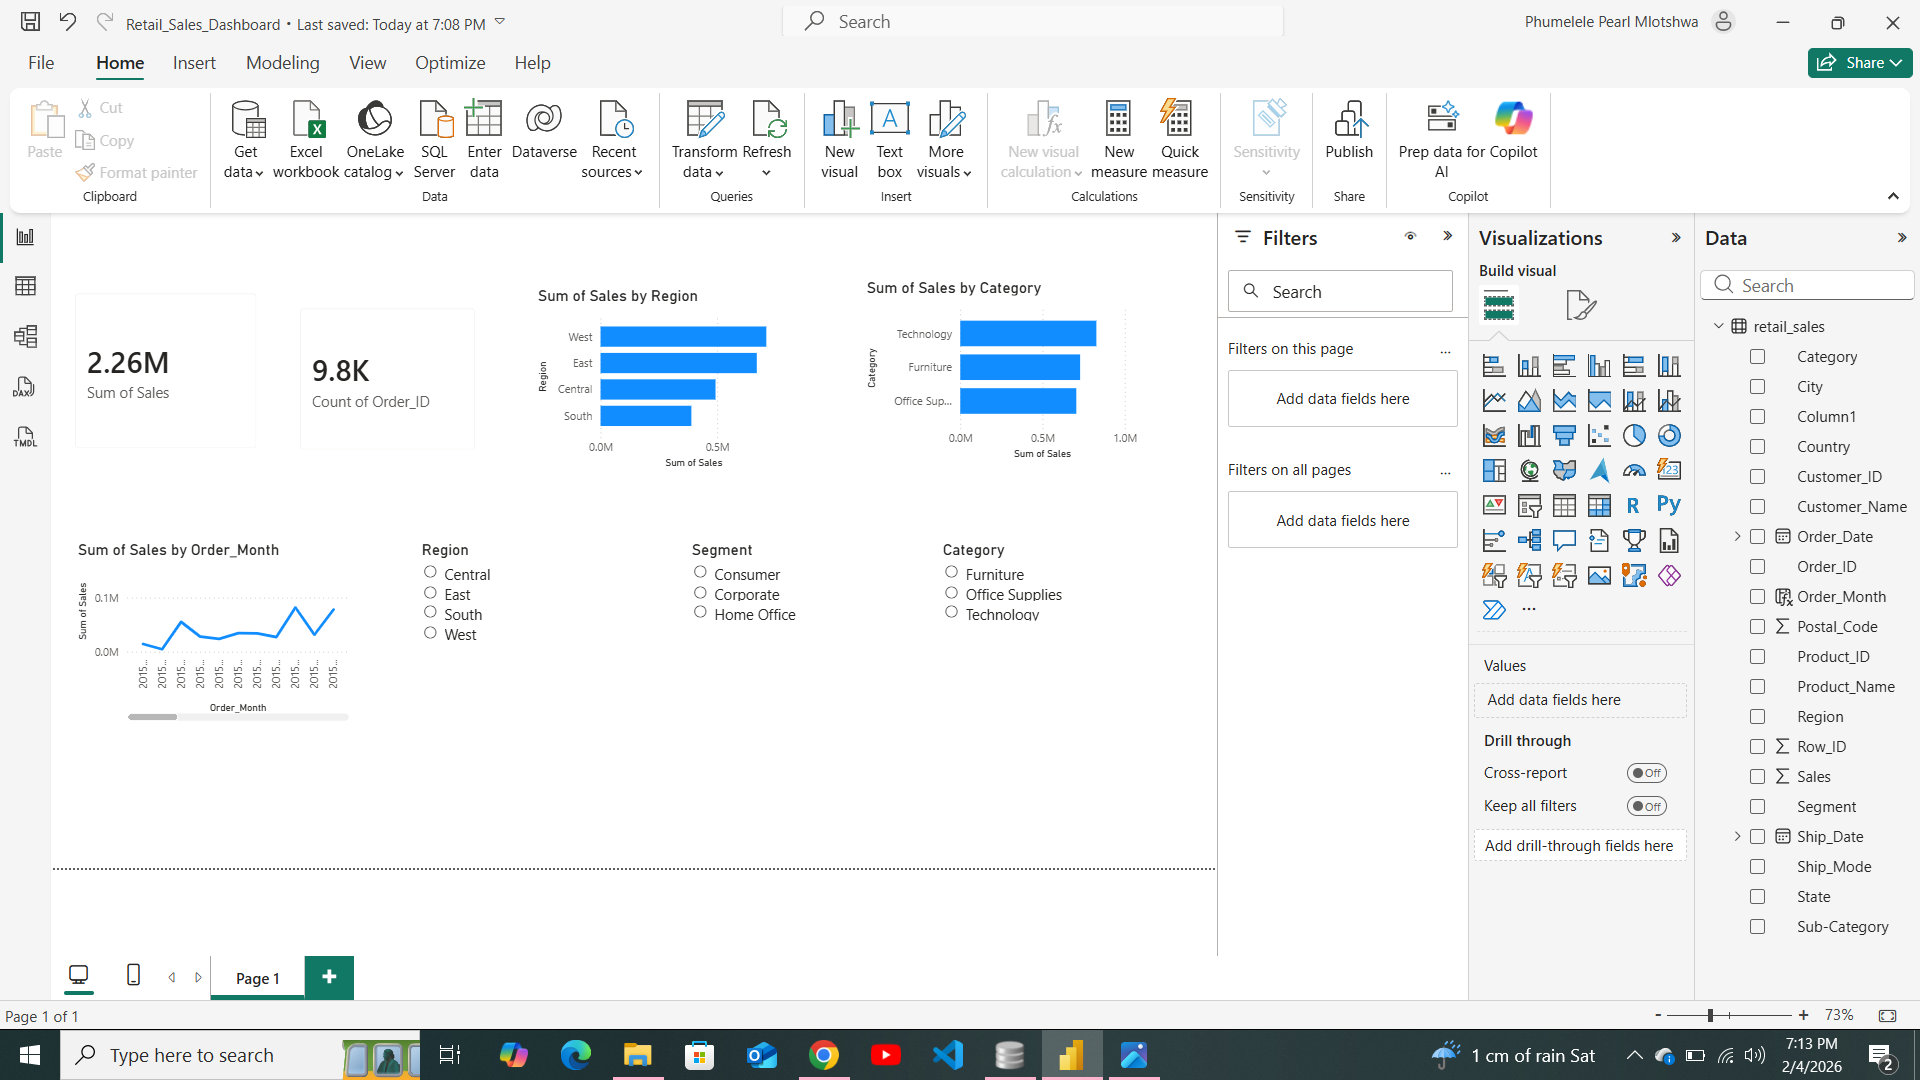

Layout of this report page (visuals, bound fields, positions):
{"tool":"powerbi","page":{"name":"Page 1","canvas":[1280,720],"ordinal":0},"visuals":[{"type":"cardVisual","fields":{"Data":["Sum(retail_sales.Sales)"]},"box":[9.6,71.4,233.3,204.5],"z":0},{"type":"cardVisual","fields":{"Data":["CountNonNull(retail_sales.Order_ID)"]},"box":[256.6,87.8,226.4,189.4],"z":1},{"type":"clusteredBarChart","fields":{"Y":["Sum(retail_sales.Sales)"],"Category":["retail_sales.Category"]},"box":[890.6,71.4,307.4,204.5],"z":3},{"type":"lineChart","fields":{"Category":["retail_sales.Order_Month"],"Y":["Sum(retail_sales.Sales)"]},"box":[24.7,359.5,307.4,203.1],"z":4},{"type":"clusteredBarChart","fields":{"Category":["retail_sales.Region"],"Y":["Sum(retail_sales.Sales)"]},"box":[529.7,81,297.8,204.5],"z":6},{"type":"listSlicer","fields":{"Values":["retail_sales.Region"]},"box":[402.1,359.5,255.2,204.5],"z":7},{"type":"listSlicer","fields":{"Values":["retail_sales.Category"]},"box":[974.3,359.5,223.7,204.5],"z":8},{"type":"listSlicer","fields":{"Values":["retail_sales.Segment"]},"box":[698.5,359.5,208.6,204.5],"z":9}]}

Visuals, with their boxes on the page's 1280x720 design canvas (x1, y1, x2, y2). These are canvas units, not pixel positions in the 1920x1080 screenshot, which may show the page scaled, cropped or inside an application window:
cardVisual - Sum(retail_sales.Sales): <box>10,71,243,276</box>
cardVisual - CountNonNull(retail_sales.Order_ID): <box>257,88,483,277</box>
clusteredBarChart - Sum(retail_sales.Sales) x retail_sales.Category: <box>891,71,1198,276</box>
lineChart - retail_sales.Order_Month x Sum(retail_sales.Sales): <box>25,360,332,563</box>
clusteredBarChart - retail_sales.Region x Sum(retail_sales.Sales): <box>530,81,828,286</box>
listSlicer - retail_sales.Region: <box>402,360,657,564</box>
listSlicer - retail_sales.Category: <box>974,360,1198,564</box>
listSlicer - retail_sales.Segment: <box>698,360,907,564</box>
